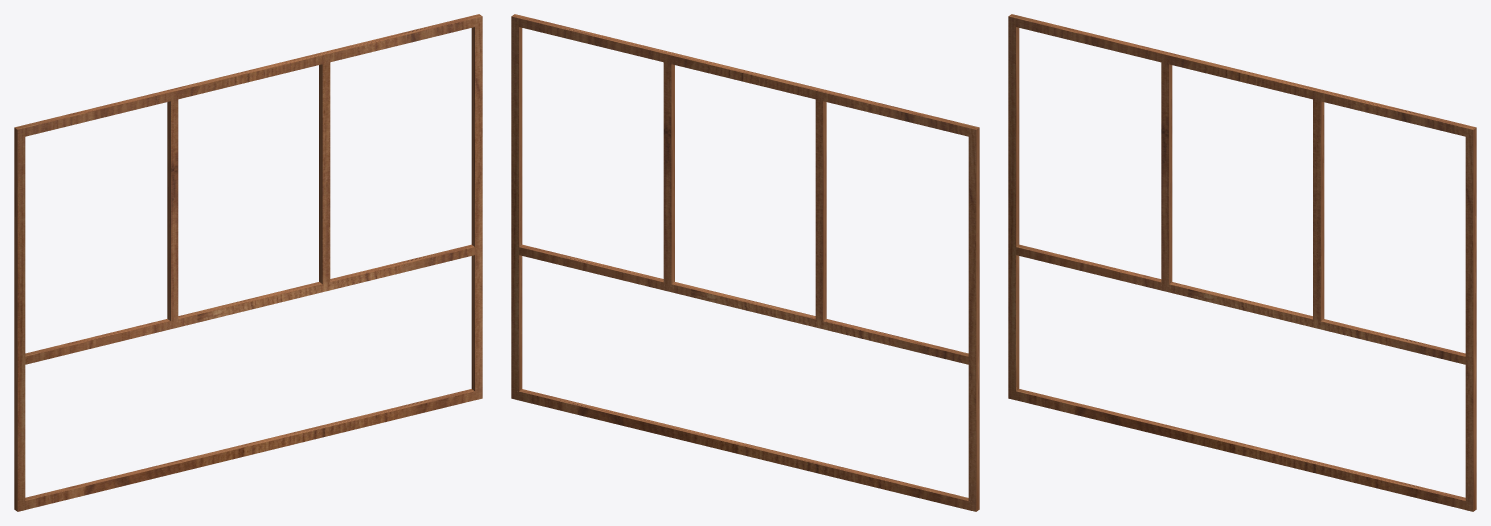
File: Normal_SH_Fractional1.obj
The picture shows the model from 3 angles, left to right: view 1: azimuth 30°, elevation 25°; view 2: azimuth 150°, elevation 25°; view 3: azimuth 330°, elevation 25°; orthographic projection.
Parts seen in each view (by area): view 1: SH_Fractional1; view 2: SH_Fractional1; view 3: SH_Fractional1.
Boxes of the visible parts, x1,y1,x2,y2 form: SH_Fractional1: (14, 14, 482, 511); SH_Fractional1: (511, 14, 979, 511); SH_Fractional1: (1008, 14, 1476, 511).
Bounding box in the file's own units: 8.47 × 6.65 × 0.1094.
1 material, 1 textured.
